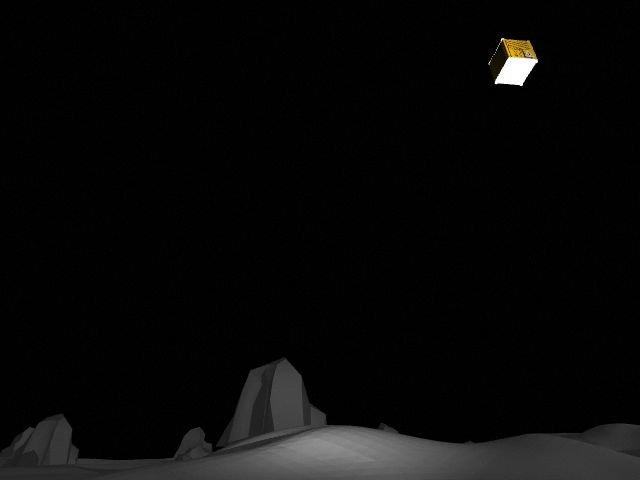cubesat: (485, 33, 541, 92)
